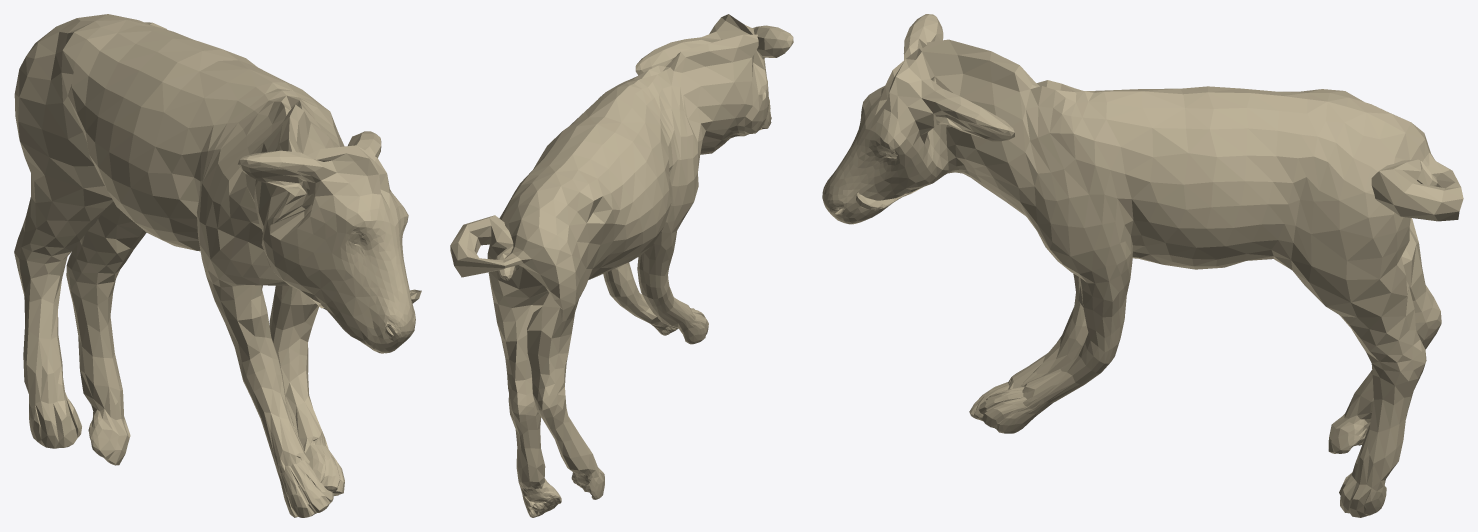
3 renders of one model, left to right at view 1: azimuth 30°, elevation 25°; view 2: azimuth 150°, elevation 25°; view 3: azimuth 270°, elevation 25°, orthographic. The views are drawn at different scales.
Visible parts, largest first — view 1: world; view 2: world; view 3: world.
Part boxes in pixels (x1=…): world: x1=14, y1=14, x2=421, y2=517; world: x1=450, y1=14, x2=793, y2=517; world: x1=822, y1=14, x2=1463, y2=517.
Bounding box in the file's own units: 0.5374 × 1.34 × 1.7.
